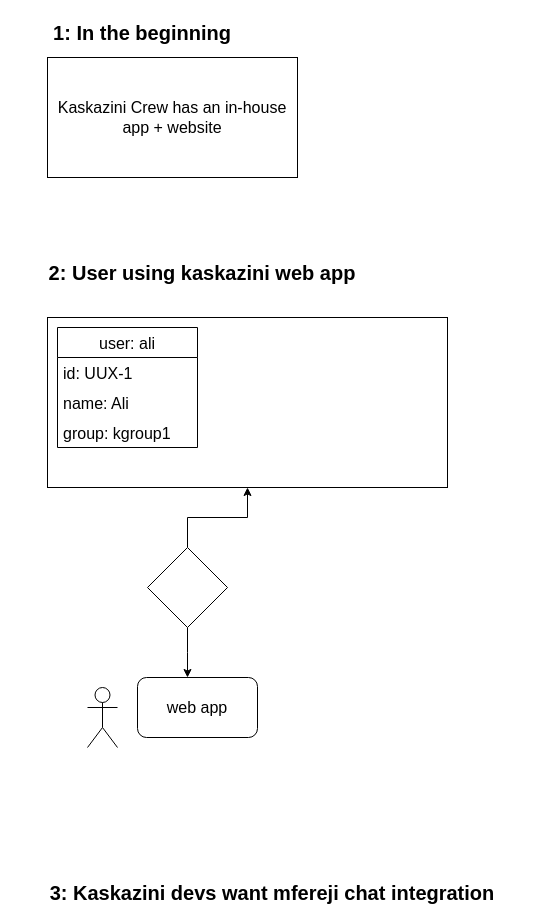
Image size: 544x924. Some labels were removed from this diagram. The centre of each missing label's shape, as x and y in pixels:
"kaskazini app user: Ali" goes at (102,717).
"Login" goes at (187,587).
